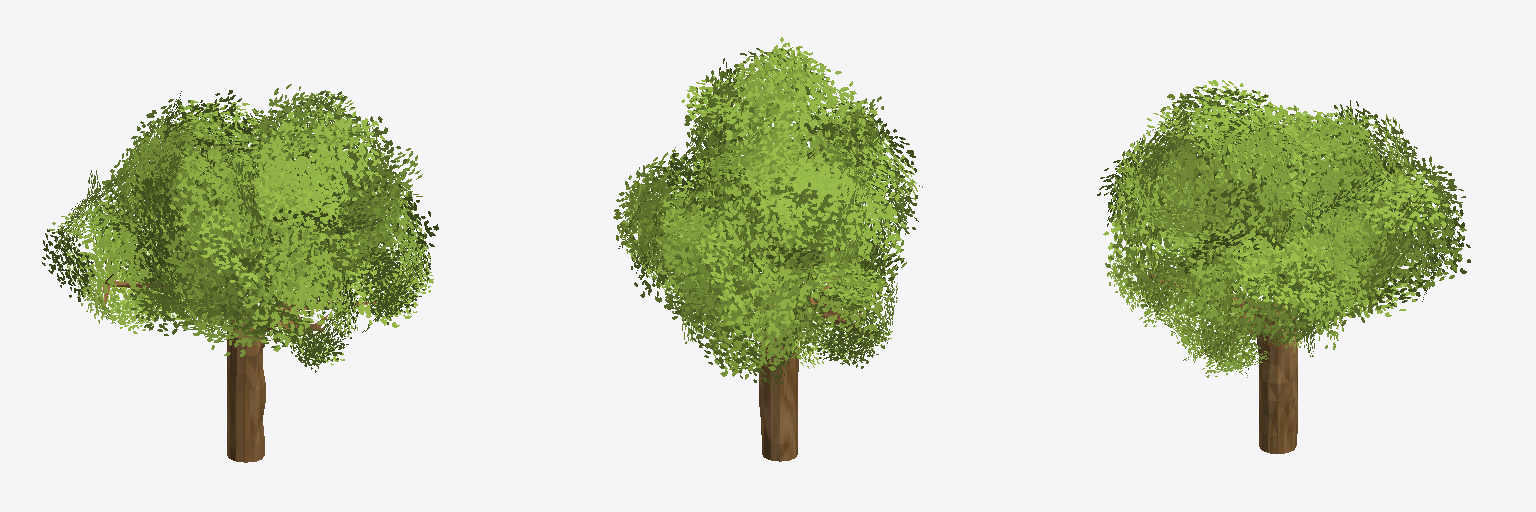
3 renders of one model, left to right at view 1: azimuth 30°, elevation 25°; view 2: azimuth 150°, elevation 25°; view 3: azimuth 270°, elevation 25°, orthographic.
Visible parts, largest first — view 1: pCylinder1, pPlane10, group16 group12 group6 pPlane16, group11 group16 group6 pPlane18, group9 group6 pPlane18, group10 group6 pPlane18, group10 group6 pPlane17, group16 group12 pPlane15 group6, group5 group10 pPlane16, group5 group11 group17 group19 pPlane18, group5 group9 pPlane16, group16 group5 group12 pPlane24 (+28 smaller); view 2: pCylinder1, group13 group12 group6 pPlane17, group11 group13 group6 pPlane18, group17 group19 group12 group6 pPlane17, group14 group12 group6 pPlane18, group5 group8 pPlane18, group11 group17 group19 group6 pPlane18, group13 group12 group6 pPlane18, group5 group11 group13 pPlane16, group15 group5 group12 pPlane18, group11 group16 group6 pPlane17, group16 group12 group6 pPlane18 (+27 smaller); view 3: pCylinder1, group16 group5 group12 pPlane18, group20 group5 group12 pPlane17, group17 group19 group5 group12 pPlane18, group14 group12 group6 pPlane17, group11 group13 group6 pPlane16, group13 group5 group12 pPlane31, group11 group14 group6 pPlane16, group11 group14 pPlane15 group6, group11 group14 group6 pPlane18, group5 group10 pPlane17, group5 group11 group14 pPlane16 (+28 smaller).
Part boxes in pixels (bbox=[...]): pCylinder1: bbox=[103, 274, 376, 462]; pPlane10: bbox=[75, 223, 157, 312]; group16 group12 group6 pPlane16: bbox=[309, 111, 384, 200]; group11 group16 group6 pPlane18: bbox=[238, 123, 336, 205]; group9 group6 pPlane18: bbox=[188, 230, 278, 323]; group10 group6 pPlane18: bbox=[267, 213, 345, 307]; group10 group6 pPlane17: bbox=[237, 218, 318, 305]; group16 group12 pPlane15 group6: bbox=[261, 112, 355, 199]; group5 group10 pPlane16: bbox=[237, 252, 332, 351]; group5 group11 group17 group19 pPlane18: bbox=[169, 152, 265, 246]; group5 group9 pPlane16: bbox=[163, 205, 251, 298]; group16 group5 group12 pPlane24: bbox=[332, 171, 401, 250]; pCylinder1: bbox=[759, 248, 870, 461]; group13 group12 group6 pPlane17: bbox=[721, 251, 817, 345]; group11 group13 group6 pPlane18: bbox=[674, 240, 767, 336]; group17 group19 group12 group6 pPlane17: bbox=[717, 165, 798, 256]; group14 group12 group6 pPlane18: bbox=[613, 165, 690, 264]; group5 group8 pPlane18: bbox=[817, 268, 890, 340]; group11 group17 group19 group6 pPlane18: bbox=[755, 150, 841, 227]; group13 group12 group6 pPlane18: bbox=[755, 263, 830, 356]; group5 group11 group13 pPlane16: bbox=[655, 208, 746, 295]; group15 group5 group12 pPlane18: bbox=[725, 85, 817, 170]; group11 group16 group6 pPlane17: bbox=[786, 66, 877, 159]; group16 group12 group6 pPlane18: bbox=[723, 47, 808, 112]; pCylinder1: bbox=[1140, 259, 1298, 453]; group16 group5 group12 pPlane18: bbox=[1149, 149, 1235, 239]; group20 group5 group12 pPlane17: bbox=[1209, 131, 1294, 226]; group17 group19 group5 group12 pPlane18: bbox=[1273, 147, 1372, 241]; group14 group12 group6 pPlane17: bbox=[1279, 225, 1363, 320]; group11 group13 group6 pPlane16: bbox=[1352, 169, 1448, 235]; group13 group5 group12 pPlane31: bbox=[1378, 209, 1466, 289]; group11 group14 group6 pPlane16: bbox=[1168, 242, 1244, 336]; group11 group14 pPlane15 group6: bbox=[1187, 216, 1280, 295]; group11 group14 group6 pPlane18: bbox=[1242, 263, 1325, 341]; group5 group10 pPlane17: bbox=[1105, 217, 1189, 312]; group5 group11 group14 pPlane16: bbox=[1190, 243, 1277, 338].
Bounding box in the file's own units: 47.72 × 52.96 × 49.46.
2 materials, 2 textured.